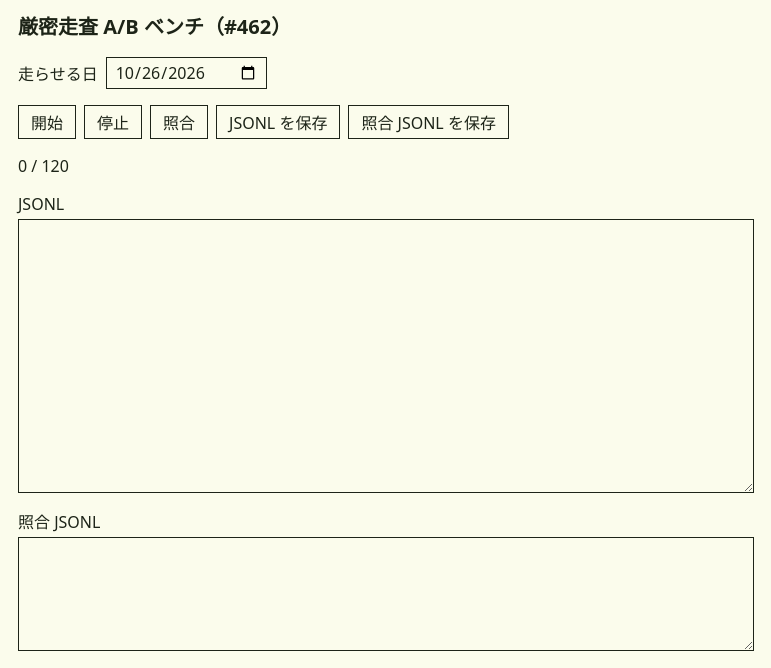
BenchScreen › 書かれたレコードを JSONL として出し、進み具合を数える
Click the button "開始": (47, 122) [18,105,76,139]
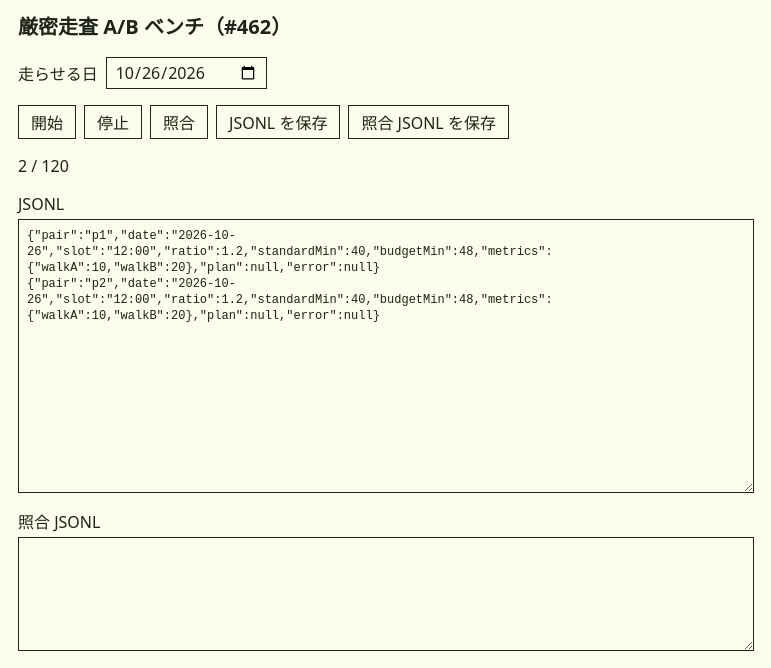
Expected: the text "2 / 120" is shown, [18,155,69,177]
